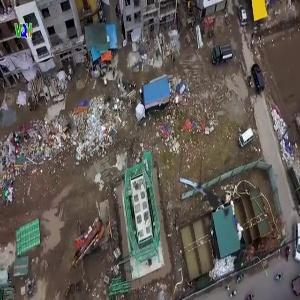drone: (171, 153, 259, 241)
